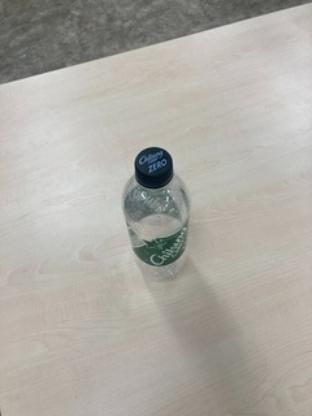Plastic Bottle: (119, 144, 191, 290)
